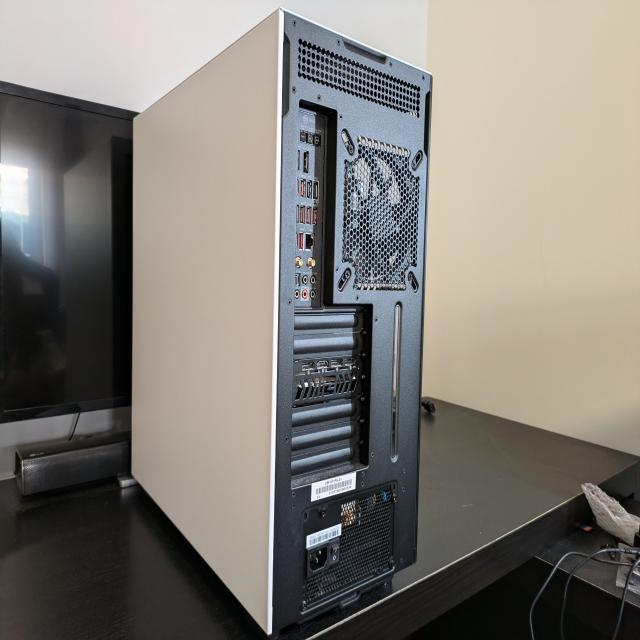PSU: (298, 480, 398, 615)
